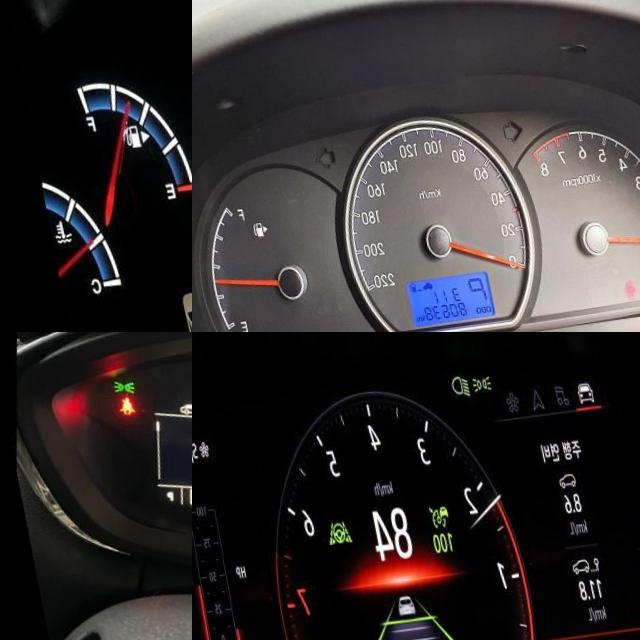Doors: (608, 294, 623, 313)
LaneCenteringOff: (314, 527, 340, 554)
Low beam: (444, 387, 464, 411)
SideLamp: (103, 382, 128, 400), (465, 386, 486, 406)
